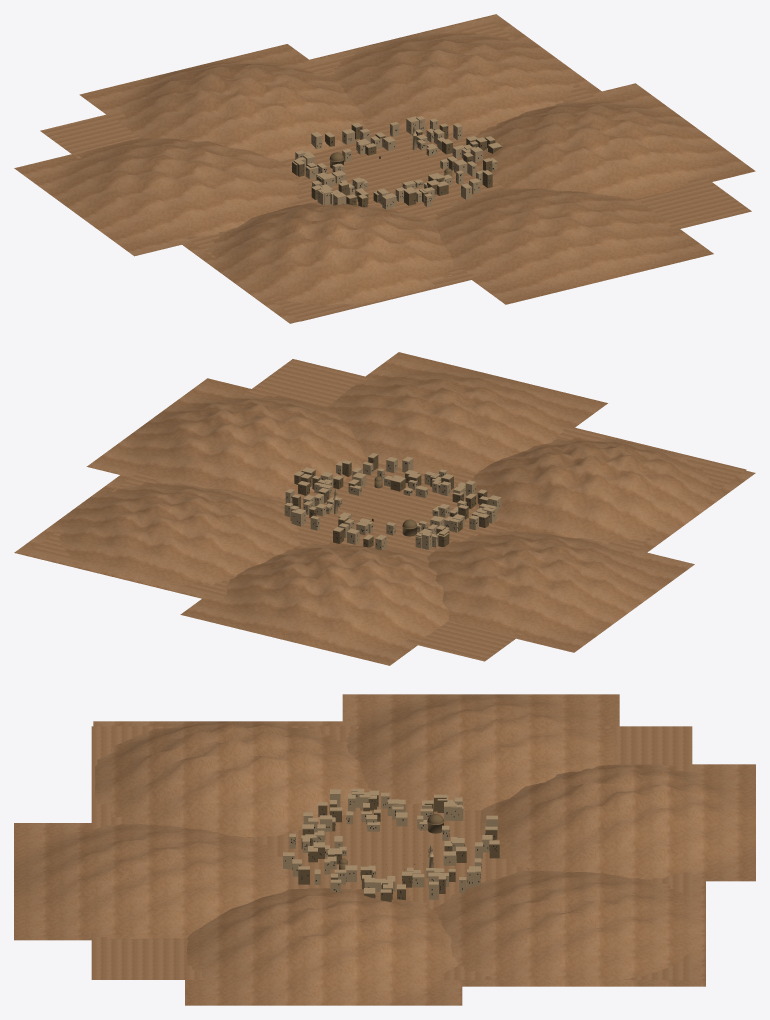
Rendered from harran_cevre.glb.
The picture shows the model from 3 angles, top to bottom: view 1: azimuth 30°, elevation 25°; view 2: azimuth 150°, elevation 25°; view 3: azimuth 270°, elevation 25°; orthographic projection. The views are drawn at different scales.
Parts seen in each view (by area): view 1: K_tepe1, K_tepe3, K_tepe2, K_tepe0, K_tepe5, K_tepe4, K_zemin, K_ev, K_evs, K_pen; view 2: K_tepe4, K_tepe3, K_tepe5, K_tepe1, K_tepe0, K_tepe2, K_zemin, K_ev, K_evs, K_pen; view 3: K_tepe0, K_tepe1, K_tepe4, K_tepe5, K_tepe3, K_tepe2, K_zemin, K_ev, K_evs.
Boxes of the visible parts, x1,y1,x2,y2 form: K_tepe1: (428, 188, 713, 304); K_tepe3: (14, 138, 302, 256); K_tepe2: (176, 202, 457, 323); K_tepe0: (473, 83, 755, 199); K_tepe5: (291, 14, 615, 133); K_tepe4: (79, 44, 367, 161); K_zemin: (40, 20, 751, 321); K_ev: (292, 116, 502, 209); K_evs: (292, 125, 501, 207); K_pen: (293, 121, 496, 206); K_tepe4: (180, 542, 449, 665); K_tepe3: (426, 530, 694, 652); K_tepe5: (14, 465, 300, 603); K_tepe1: (326, 352, 607, 474); K_tepe0: (86, 378, 367, 500); K_tepe2: (470, 437, 755, 555); K_zemin: (31, 359, 746, 661); K_ev: (284, 453, 501, 549); K_evs: (292, 455, 488, 547); K_pen: (286, 457, 499, 547); K_tepe0: (185, 888, 462, 1005); K_tepe1: (14, 823, 289, 940); K_tepe4: (480, 764, 755, 881); K_tepe5: (433, 870, 705, 986); K_tepe3: (342, 694, 619, 810); K_tepe2: (93, 721, 368, 837); K_zemin: (91, 726, 692, 979); K_ev: (283, 788, 499, 899); K_evs: (298, 795, 499, 901).
Size of the model in its own units: 637 by 40 by 642.
Materials: 9 (8 with a texture image).
